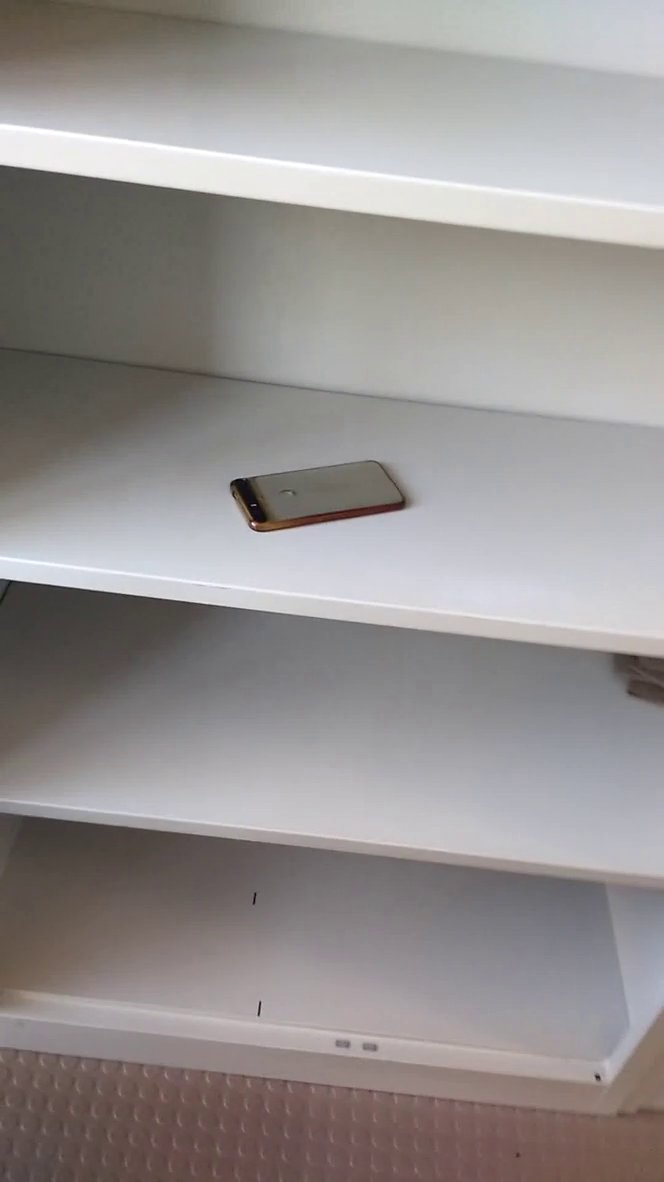phone: (224, 451, 421, 552)
